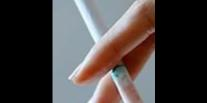Cigarette: (62, 0, 146, 103)
